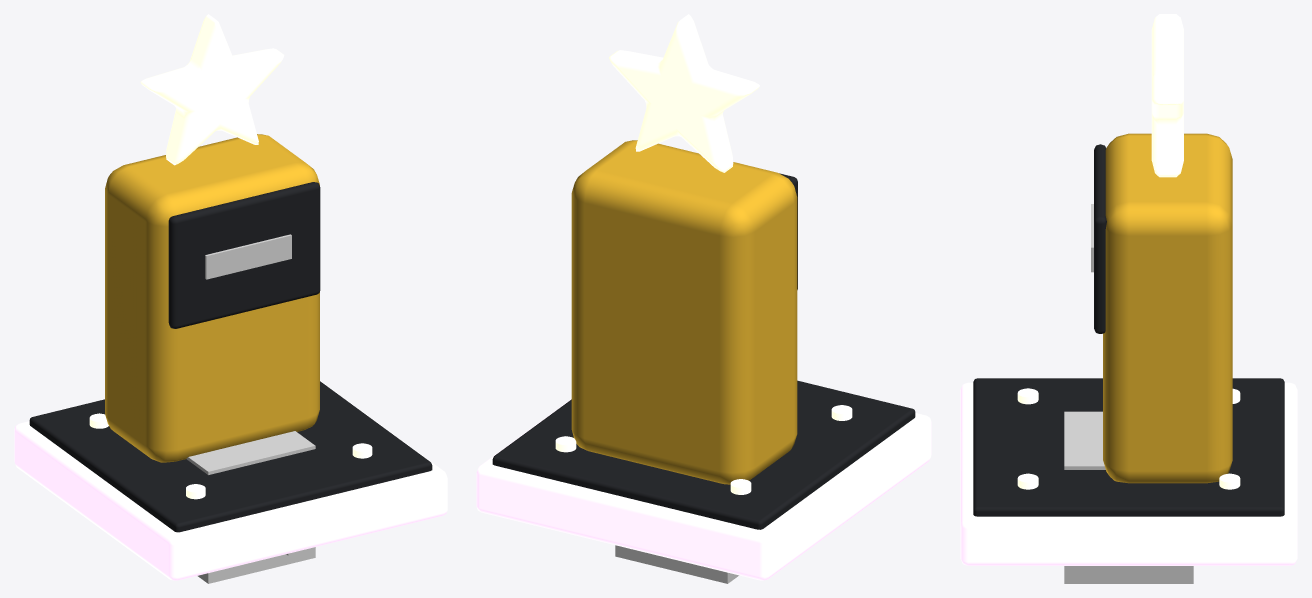
File: StarTerminal.fbx
The picture shows the model from 3 angles, left to right: view 1: azimuth 30°, elevation 25°; view 2: azimuth 150°, elevation 25°; view 3: azimuth 270°, elevation 25°; orthographic projection. The views are drawn at different scales.
Visible parts, largest first — view 1: Body__Gold, Body__Black, Body__NeonPurple, Star__NeonYellow, Origin__Pivot, Body__NeonYellow!1, Body__NeonYellow; view 2: Body__Gold, Body__NeonPurple, Body__Black, Star__NeonYellow, Origin__Pivot, Body__NeonYellow; view 3: Body__Gold, Body__Black, Body__NeonPurple, Star__NeonYellow, Origin__Pivot, Body__NeonYellow.
Part boxes in pixels (x1,y1,x2,y2): Body__Gold: [105, 134, 319, 462]; Body__Black: [29, 182, 432, 532]; Body__NeonPurple: [14, 380, 447, 580]; Star__NeonYellow: [140, 14, 284, 165]; Origin__Pivot: [186, 431, 315, 583]; Body__NeonYellow!1: [205, 234, 291, 279]; Body__NeonYellow: [89, 413, 372, 499]; Body__Gold: [571, 140, 797, 484]; Body__NeonPurple: [476, 399, 931, 580]; Body__Black: [492, 173, 915, 529]; Star__NeonYellow: [609, 14, 759, 172]; Origin__Pivot: [615, 545, 738, 583]; Body__NeonYellow: [555, 405, 852, 494]; Body__Gold: [1103, 133, 1232, 483]; Body__Black: [973, 144, 1284, 516]; Body__NeonPurple: [960, 382, 1297, 565]; Star__NeonYellow: [1151, 14, 1183, 177]; Origin__Pivot: [1064, 411, 1193, 583]; Body__NeonYellow: [1017, 388, 1240, 489].
Bounding box in the file's own units: 2.6 × 4.62 × 2.6.
